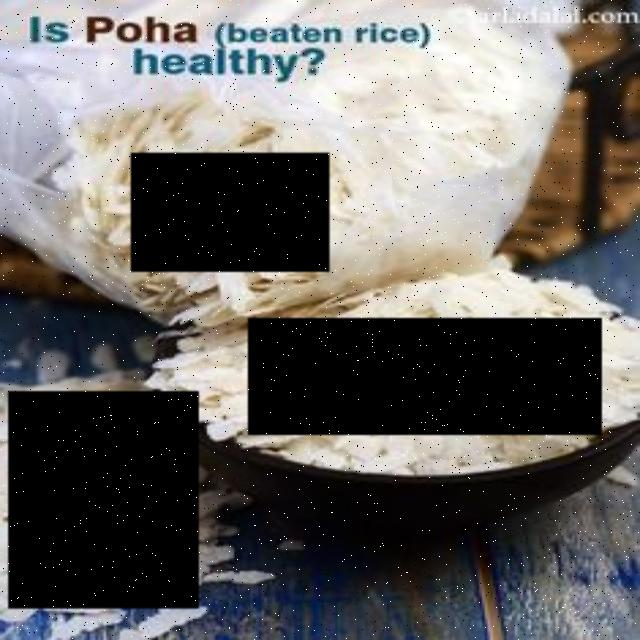Beaten_Rice: (249, 319, 603, 437), (11, 391, 201, 609), (133, 152, 332, 272)
